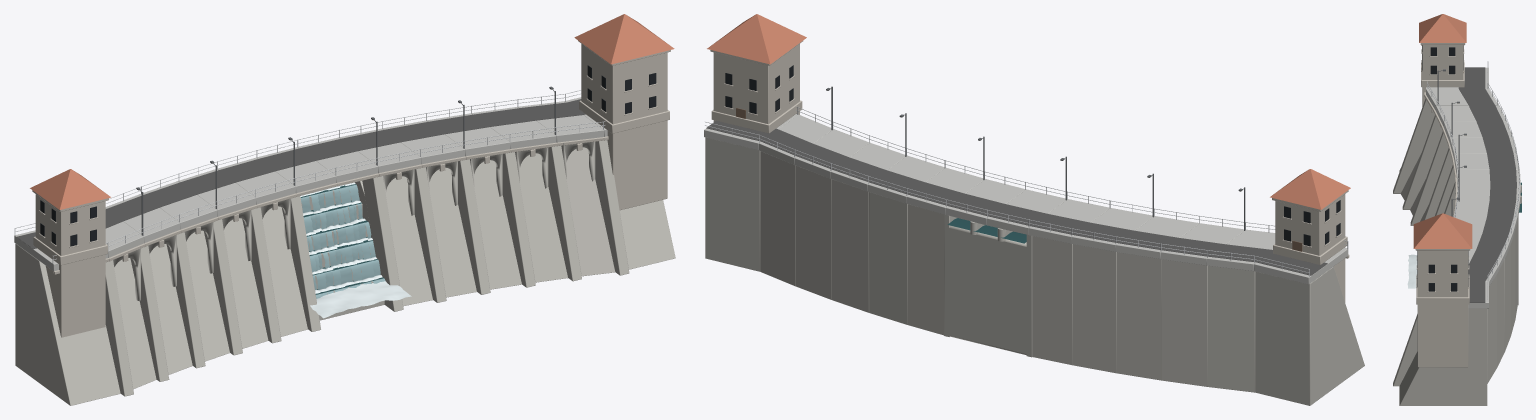
The model's file is Scenery_Dam.fbx.
The picture shows the model from 3 angles, left to right: view 1: azimuth 30°, elevation 25°; view 2: azimuth 150°, elevation 25°; view 3: azimuth 270°, elevation 25°; orthographic projection. The views are drawn at different scales.
Visible parts, largest first — view 1: Scenery_Dam_Mesh; view 2: Scenery_Dam_Mesh; view 3: Scenery_Dam_Mesh.
Part boxes in pixels (x1,y1,x2,y2): Scenery_Dam_Mesh: (14,14,675,405); Scenery_Dam_Mesh: (704,14,1364,405); Scenery_Dam_Mesh: (1393,14,1521,405).
Bounding box in the file's own units: 89.19 × 31.92 × 20.34.
